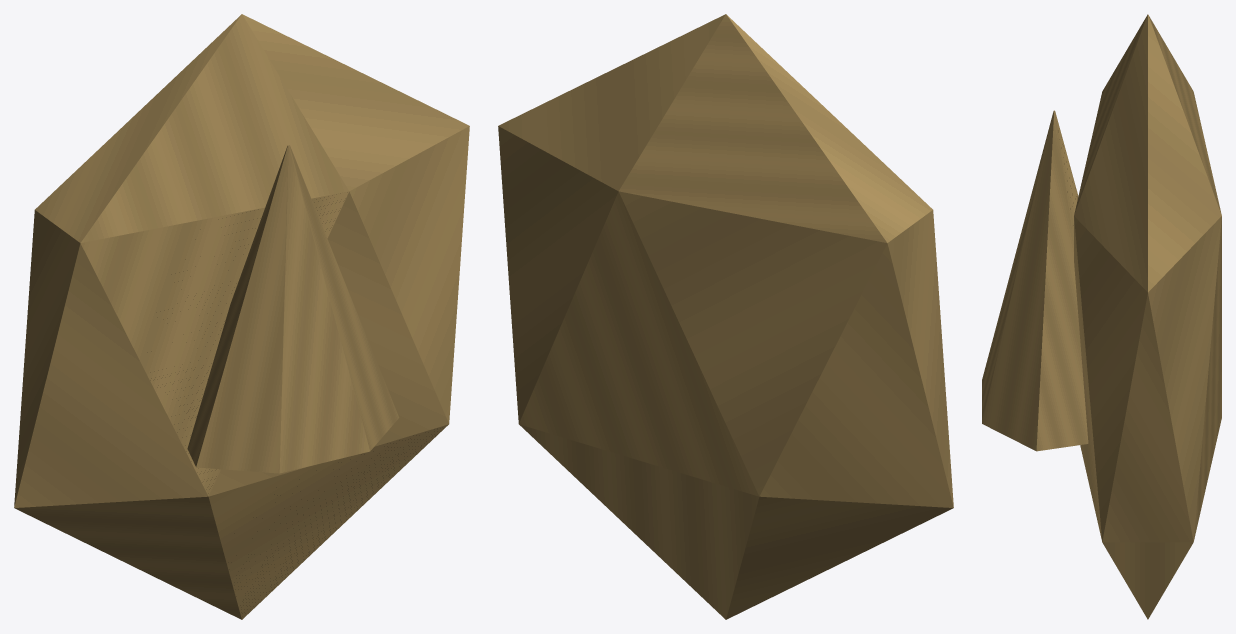
The model's file is short_fuse.glb.
The picture shows the model from 3 angles, left to right: view 1: azimuth 30°, elevation 25°; view 2: azimuth 150°, elevation 25°; view 3: azimuth 270°, elevation 25°; orthographic projection.
Parts seen in each view (by area): view 1: gear_short_fuse; view 2: gear_short_fuse; view 3: gear_short_fuse.
Boxes of the visible parts, <box> form: gear_short_fuse: <box>14,14,469,619</box>; gear_short_fuse: <box>498,14,953,619</box>; gear_short_fuse: <box>982,14,1221,619</box>.
Bounding box in the file's own units: 0.3935 × 0.5 × 0.1793.
Materials: 1 (1 with a texture image).
